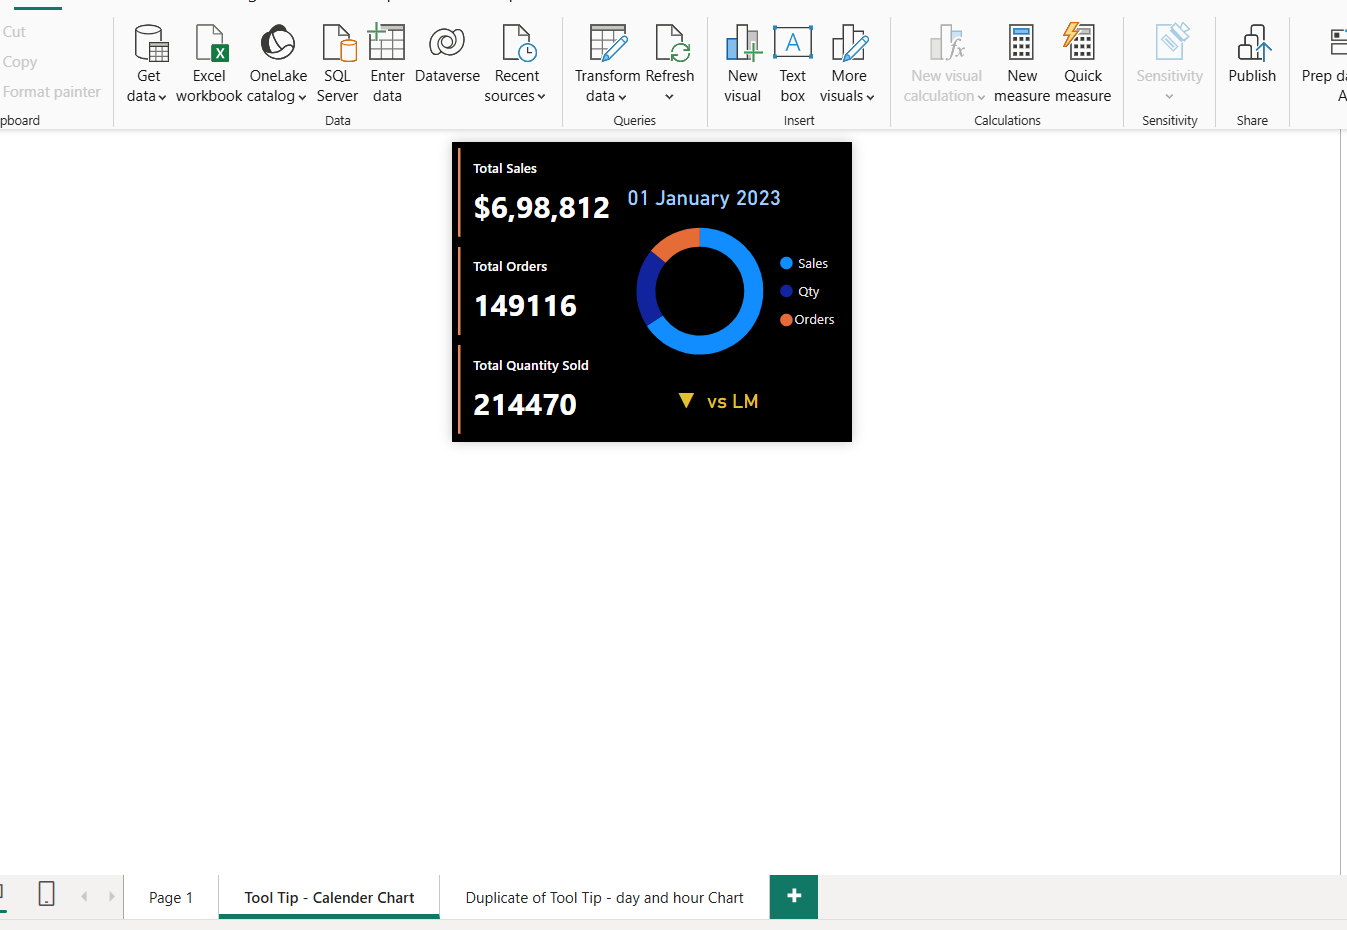

The page's visual inventory and layout, read from the dashboard file:
{"tool":"powerbi","page":{"name":"Tool Tip - Calender Chart","canvas":[320,240],"ordinal":1},"visuals":[{"type":"cardVisual","fields":{"Data":["Transactions.Total Sales","Transactions.Total Orders","Transactions.Total Quantity Sold"]},"box":[0,0,167.5,240],"z":0},{"type":"donutChart","fields":{"Y":["Transactions.Total Sales","Transactions.Total Quantity Sold","Transactions.Total Orders"]},"box":[130,45.5,190,148.2],"z":1000},{"type":"card","fields":{"Values":["Min(Date Table.Date)"]},"box":[101.8,30.9,200,28.2],"z":2000},{"type":"card","fields":{"Values":["Transactions.MOM Growth & Diff Sales"]},"box":[111.8,193.6,200,28.2],"z":3000}]}

Visuals, with their boxes on the page's 320x240 design canvas (x1, y1, x2, y2). These are canvas units, not pixel positions in the 1347x930 screenshot, which may show the page scaled, cropped or inside an application window:
cardVisual - Transactions.Total Sales x Transactions.Total Orders: <bbox>0, 0, 168, 240</bbox>
donutChart - Transactions.Total Sales x Transactions.Total Quantity Sold: <bbox>130, 46, 320, 194</bbox>
card - Min(Date Table.Date): <bbox>102, 31, 302, 59</bbox>
card - Transactions.MOM Growth & Diff Sales: <bbox>112, 194, 312, 222</bbox>
